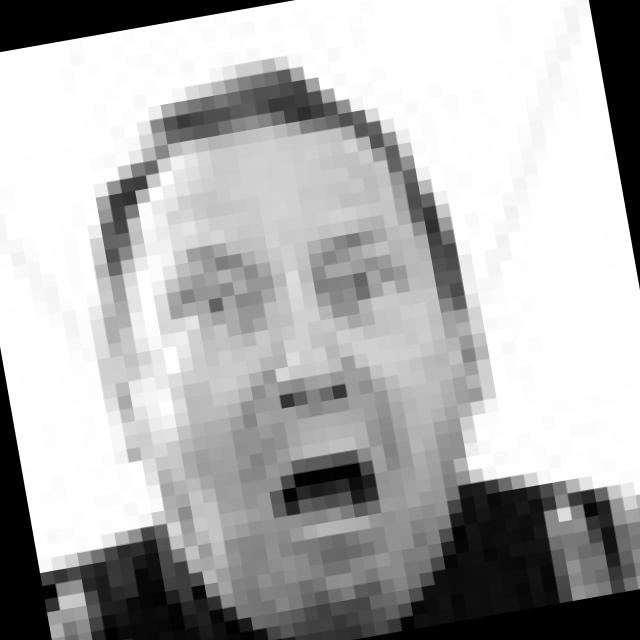fear: (153, 206, 468, 594)
